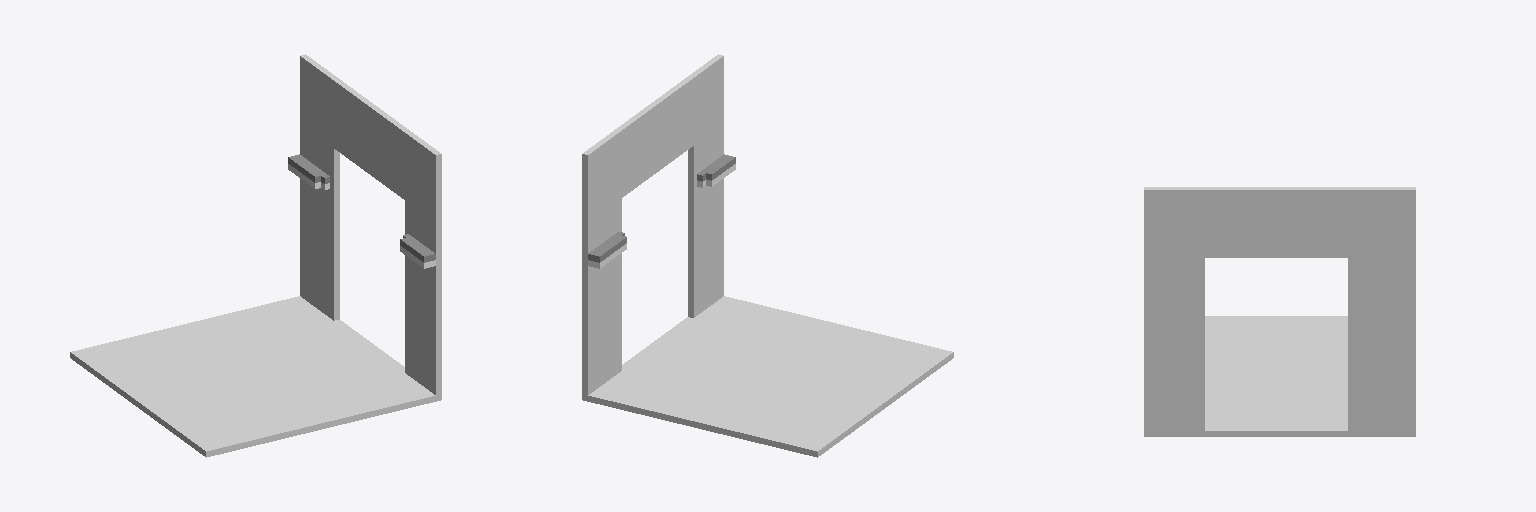
3 views of the same model, side by side, from view 1: azimuth 30°, elevation 25°; view 2: azimuth 150°, elevation 25°; view 3: azimuth 270°, elevation 25° (orthographic).
Visible parts, largest first — view 1: object 1; view 2: object 1; view 3: object 1.
Part boxes in pixels (x1,y1,x2,y2): object 1: (70,54,441,457); object 1: (582,54,953,457); object 1: (1144,187,1415,436).
Size of the model in its own units: 4 by 4 by 4.
Materials: 1 (1 with a texture image).